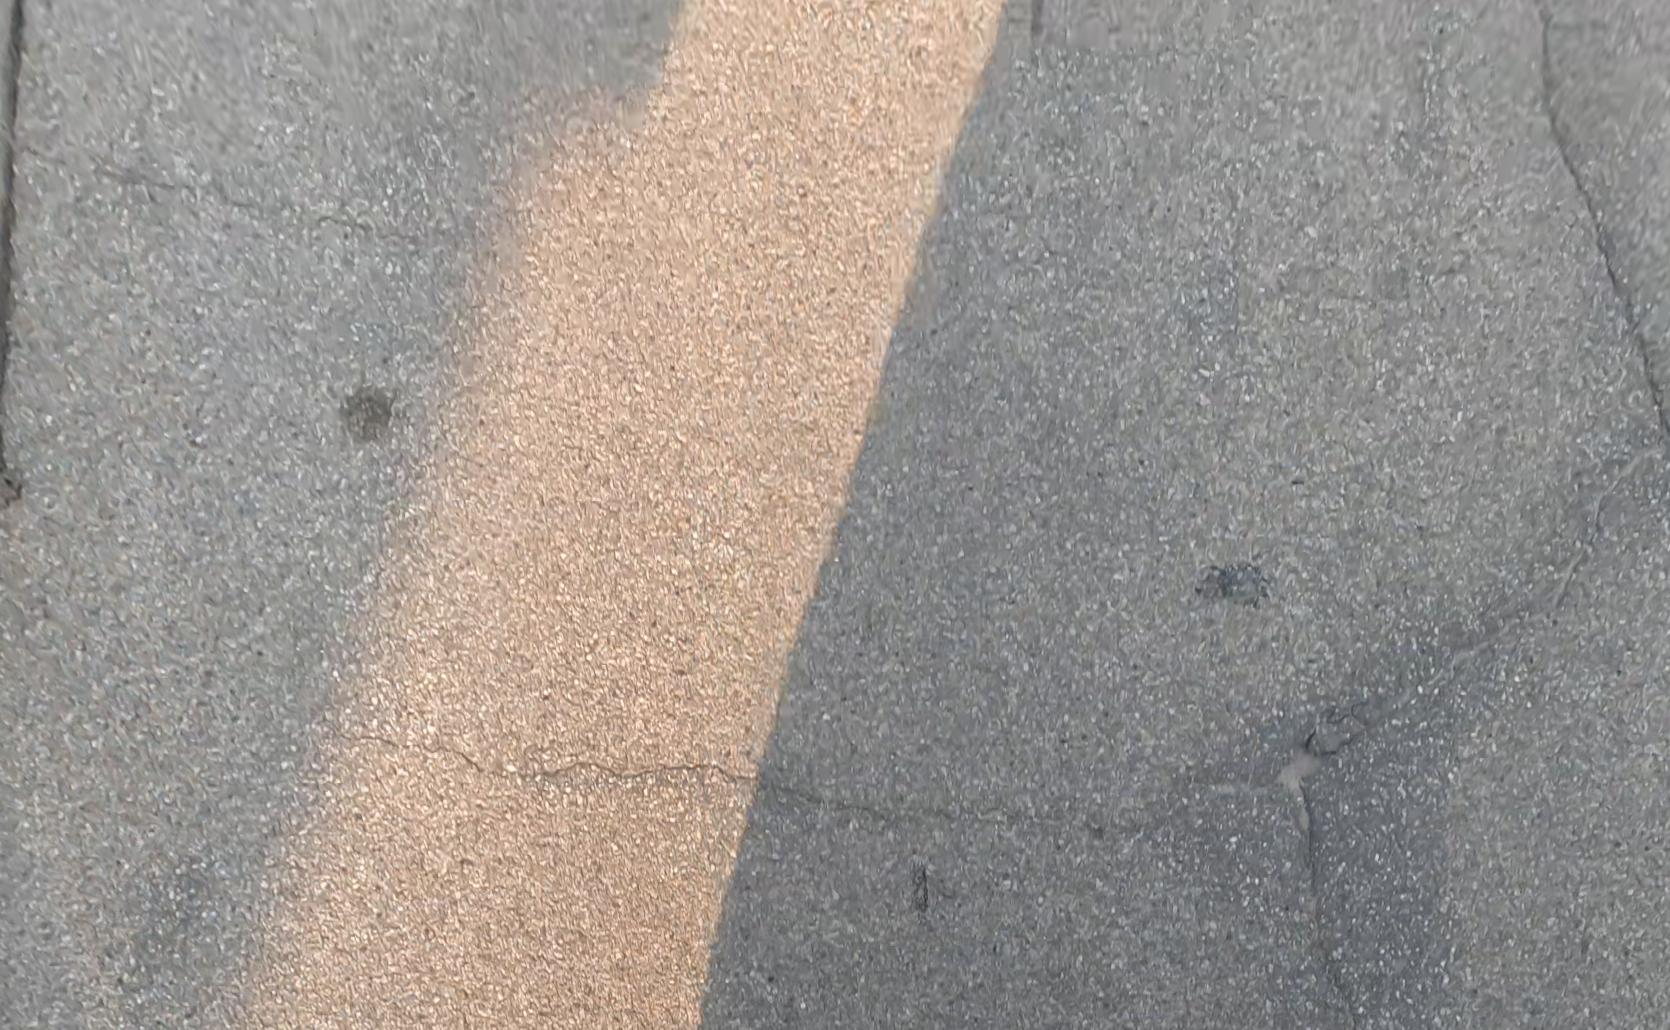pothole: (1279, 748, 1324, 833)
